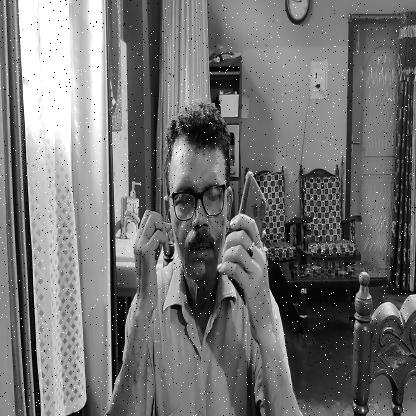Normal: (168, 111, 237, 282)
